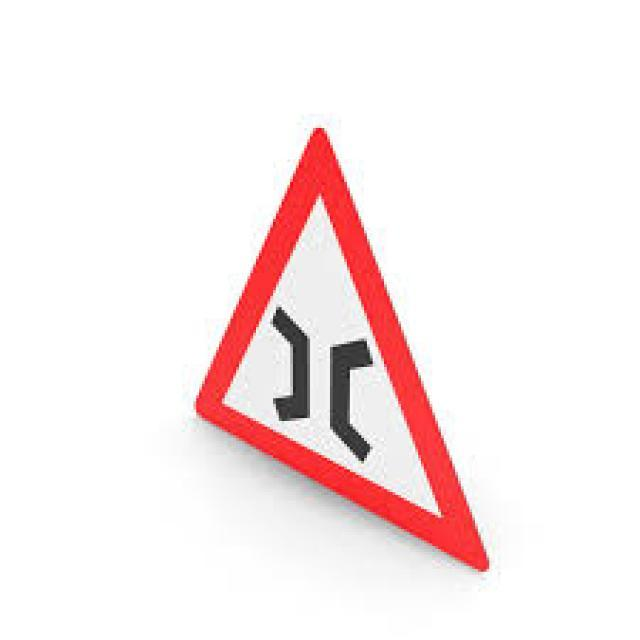narrow bridge ahead: (174, 111, 497, 588)
